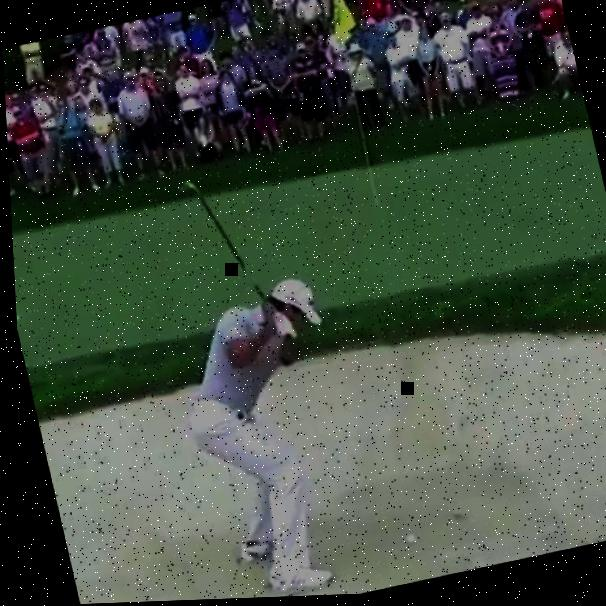ClubHead: (175, 180, 191, 194)
GolfBall: (399, 537, 409, 547)
